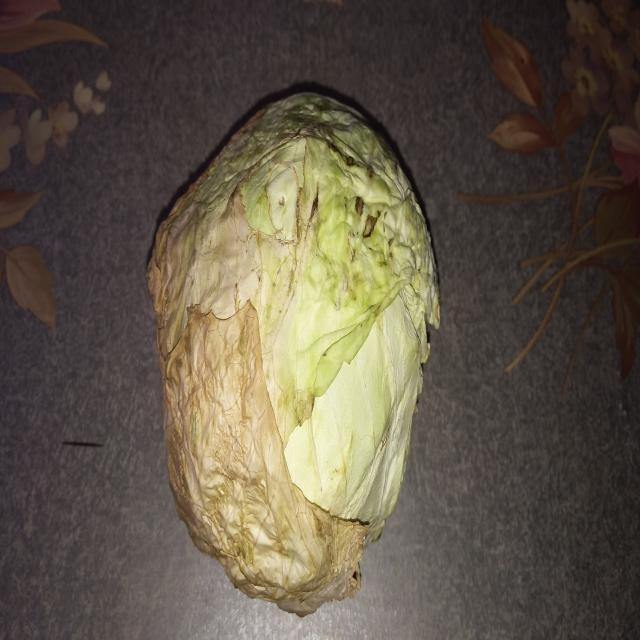cabbage: (139, 86, 444, 629)
